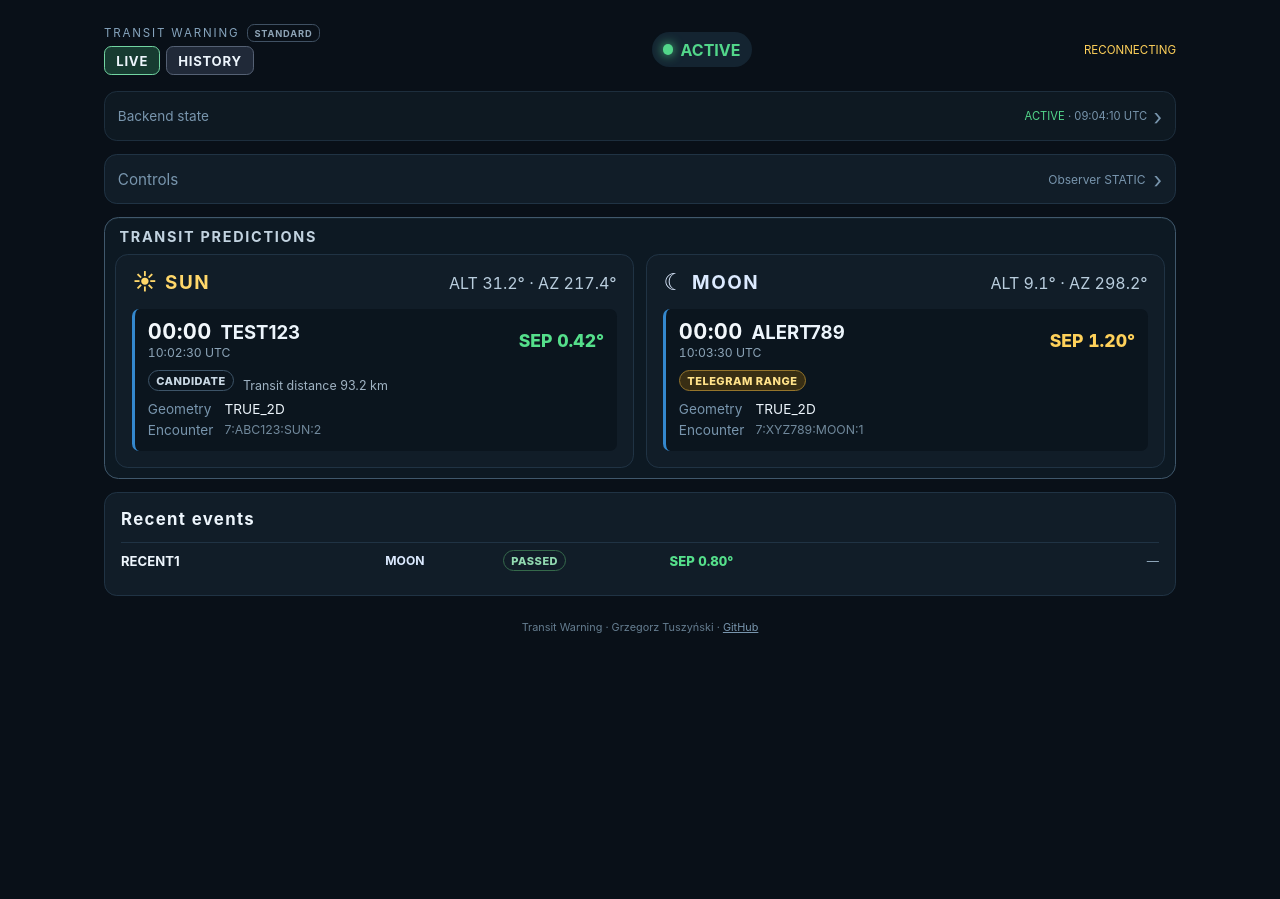
Test: synchronized operational controls › does not submit invalid custom STATIC coordinates
Click the button with aria-label "Expand Controls panel" at coordinates (148, 179), box [105,155,1175,203]
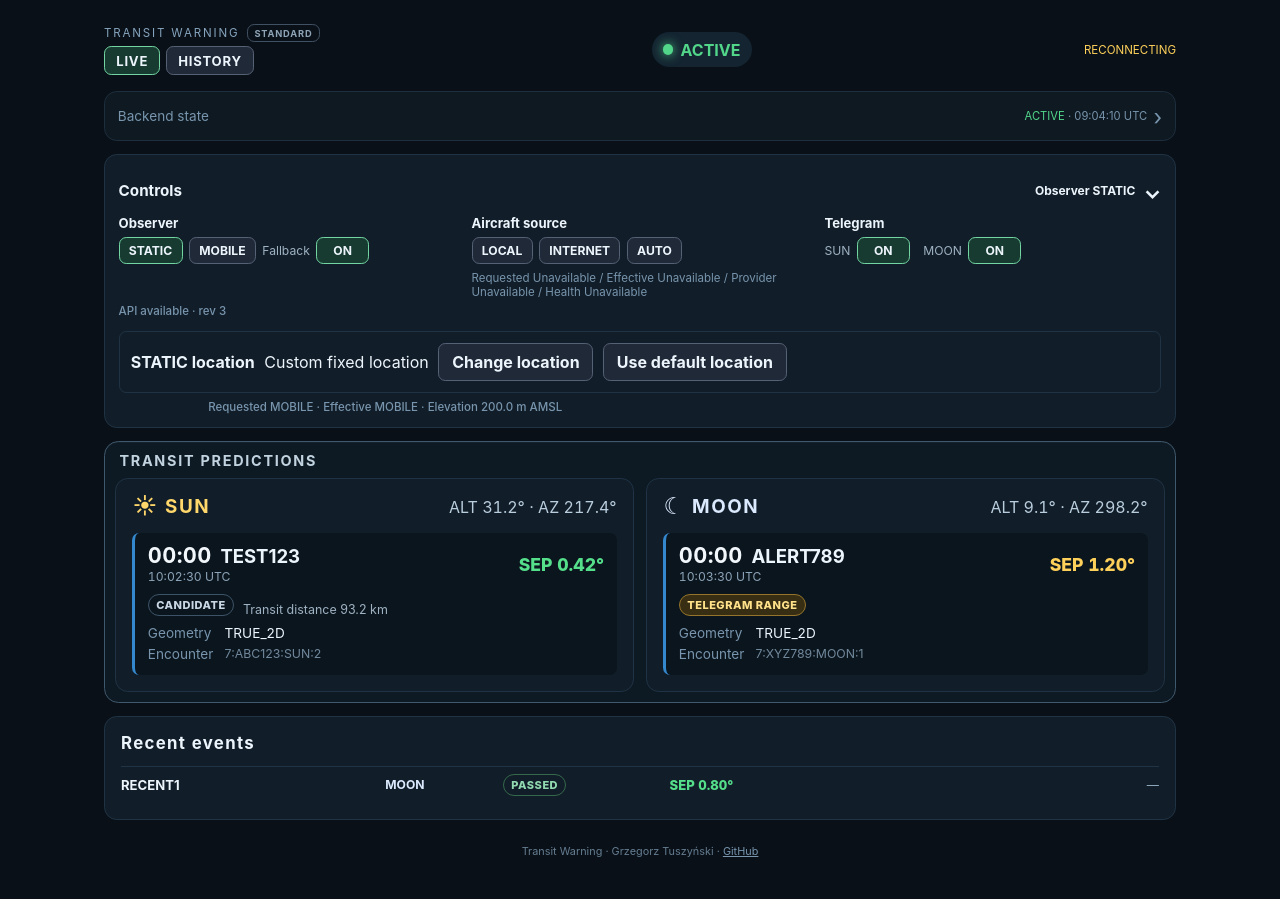
Click the button "Change location" at coordinates (516, 362), box [438,343,593,381]
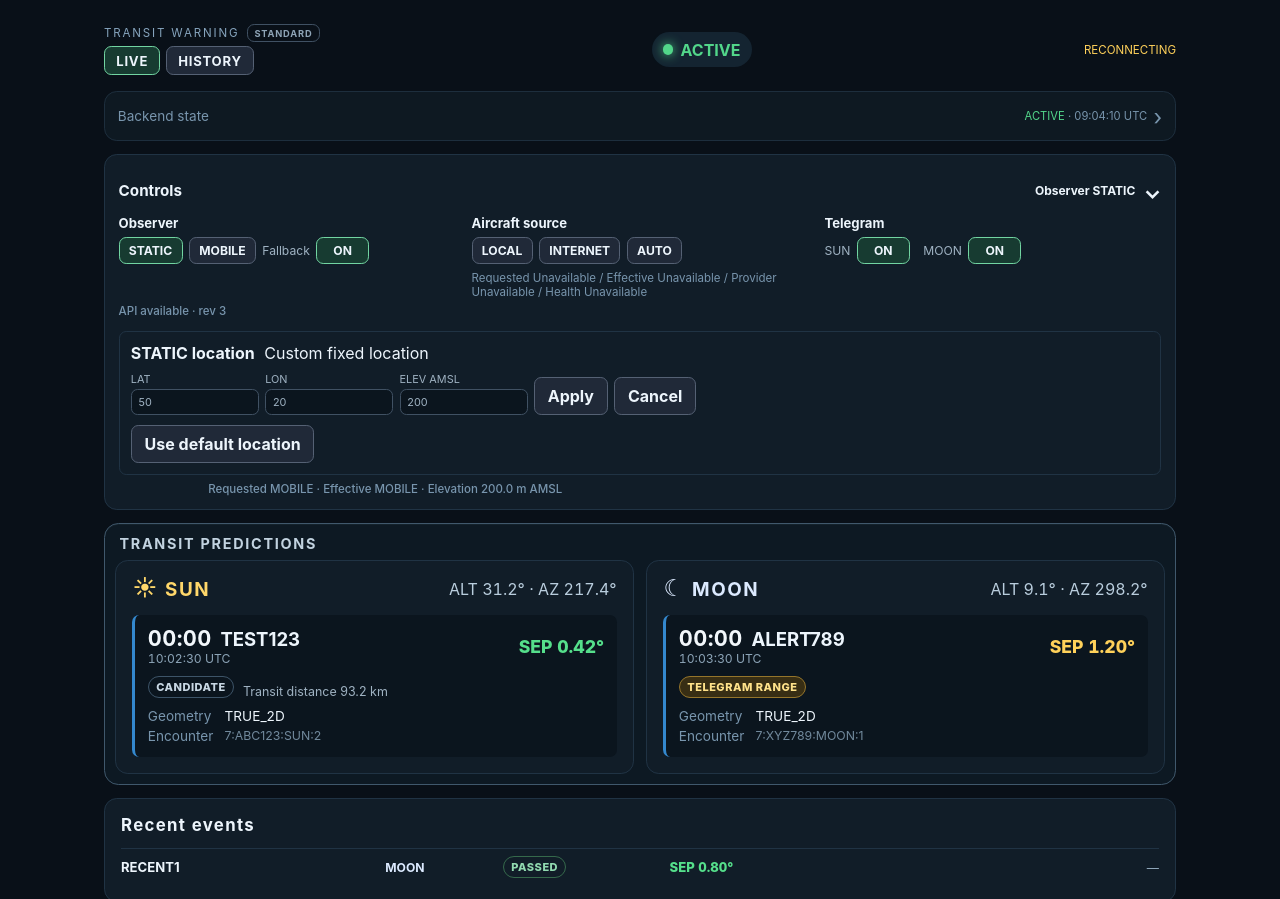
Replace the text in the field named "Static latitude" with "91" at coordinates (195, 402), box [131,389,259,416]
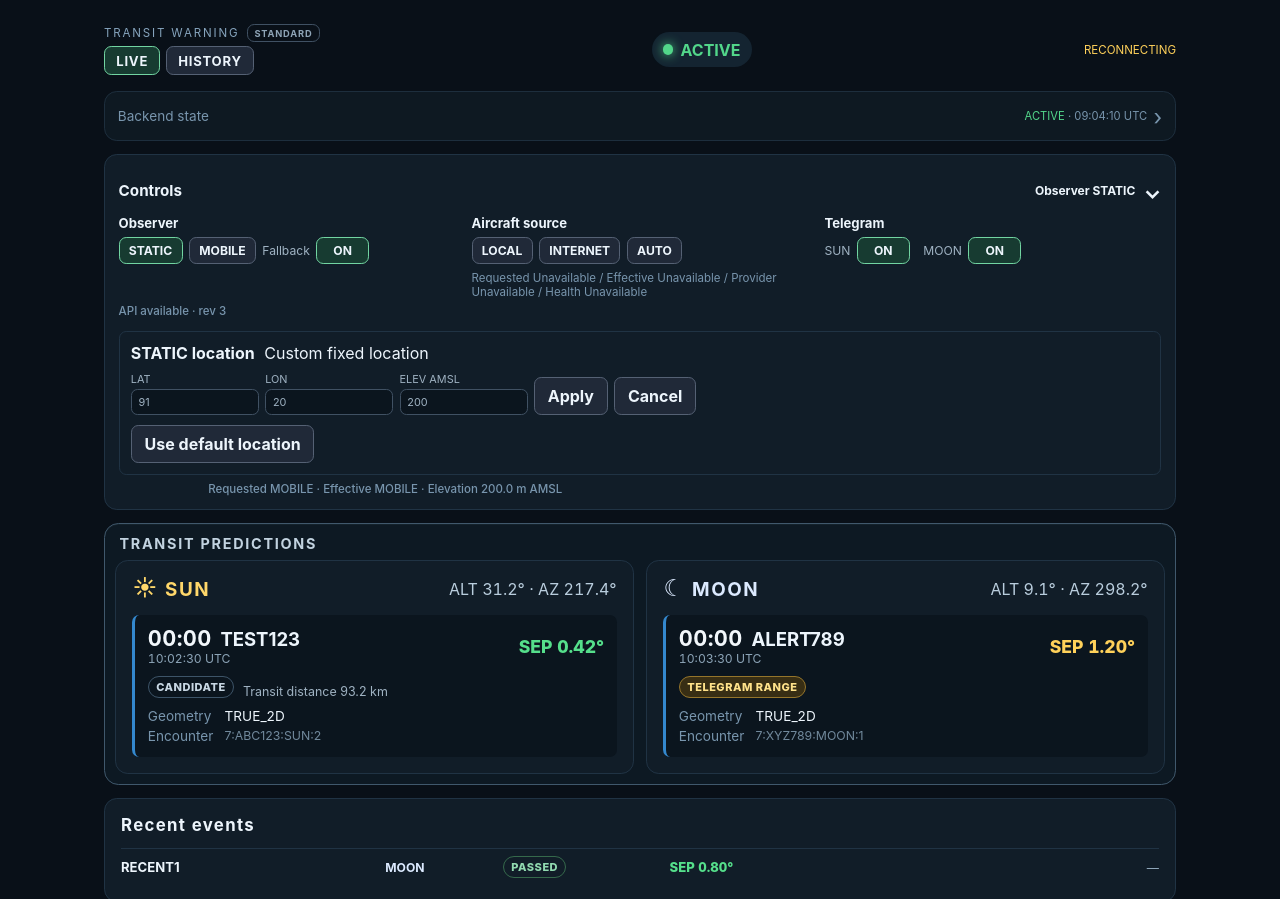
Click the button "Apply" at coordinates (571, 396), box [534,378,608,416]
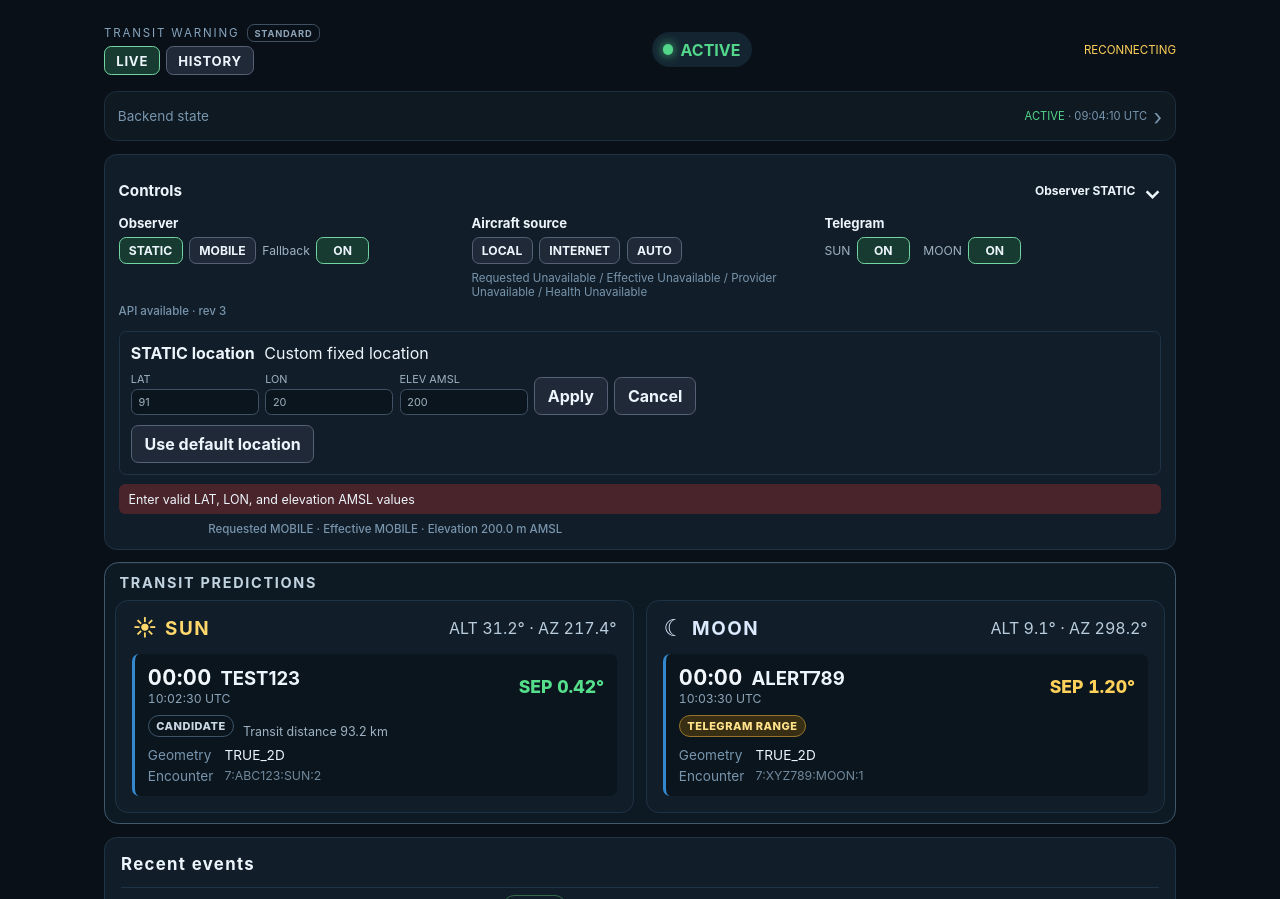
Expected: the message "Enter valid LAT, LON, and elevation AMSL values" is shown, [119,484,1161,514]
